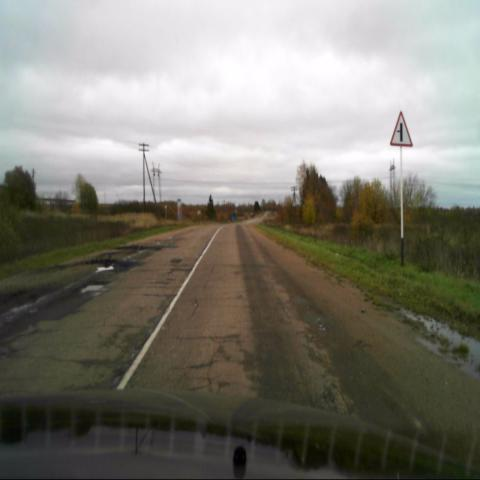2_3_3: (390, 109, 412, 148)
